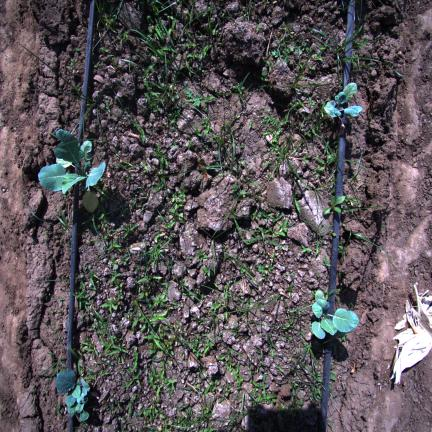crop: (38, 129, 106, 212), (312, 297, 359, 339), (56, 370, 90, 421), (324, 83, 363, 118)
